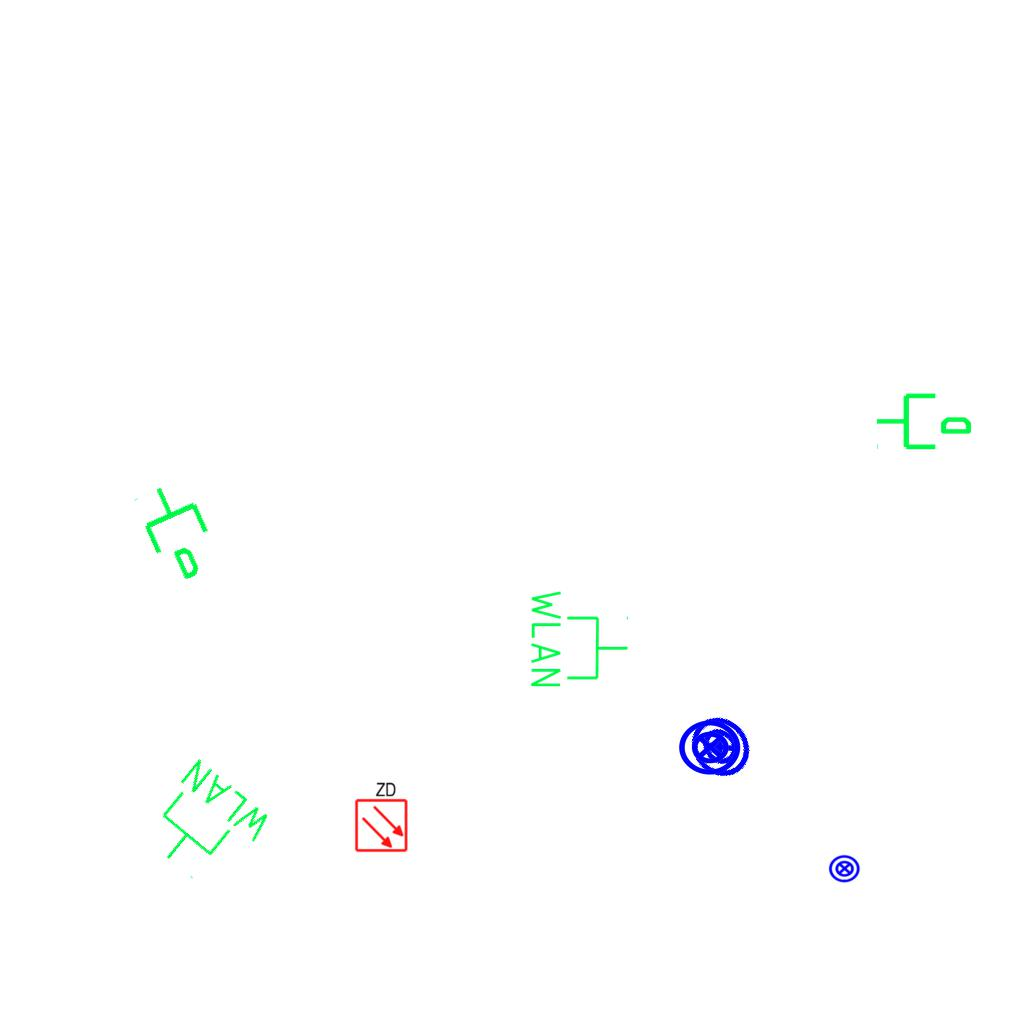Datenanschluss_einfach: (127, 471, 232, 591), (874, 385, 974, 454)
Taster_beleuchtet: (673, 700, 767, 794), (677, 714, 743, 780), (828, 852, 861, 885)
WLAN: (132, 753, 280, 900), (527, 586, 631, 691)
ZD_Melder_in_Zwischendecke_mit_Revisionsoeffnung_mind_40_x_40_cm: (352, 779, 409, 853)
